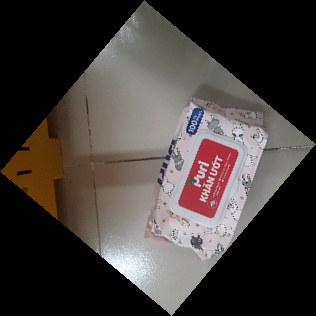Puri hong: (141, 94, 268, 263)
